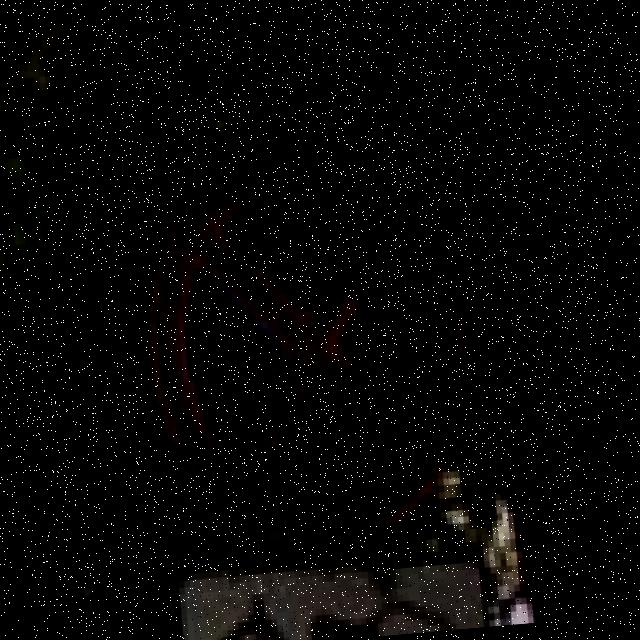Zakaz zatrzymywania sie: (130, 127, 481, 562)
